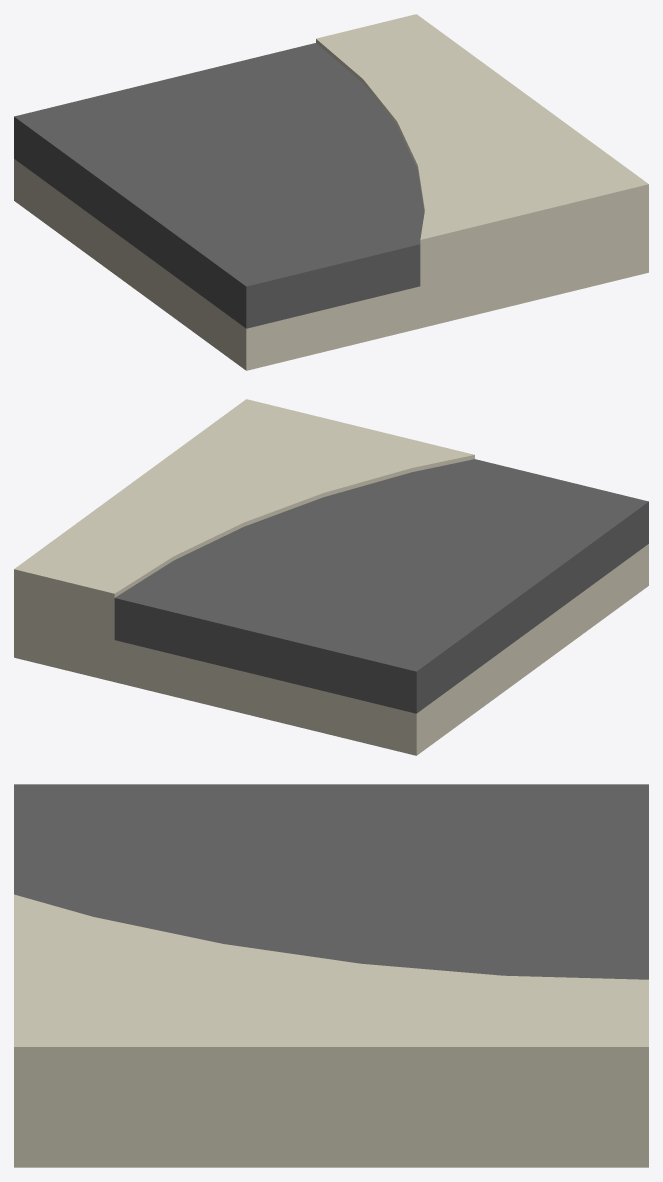
The model's file is roadTile_070.fbx.
3 renders of one model, top to bottom at view 1: azimuth 30°, elevation 25°; view 2: azimuth 150°, elevation 25°; view 3: azimuth 270°, elevation 25°, orthographic. The views are drawn at different scales.
Parts seen in each view (by area): view 1: roadTile_070; view 2: roadTile_070; view 3: roadTile_070.
Part boxes in pixels (x1,y1,x2,y2): roadTile_070: (14, 14, 648, 370); roadTile_070: (14, 399, 648, 755); roadTile_070: (14, 784, 648, 1167).
Size of the model in its own units: 118 by 24.8 by 118.
